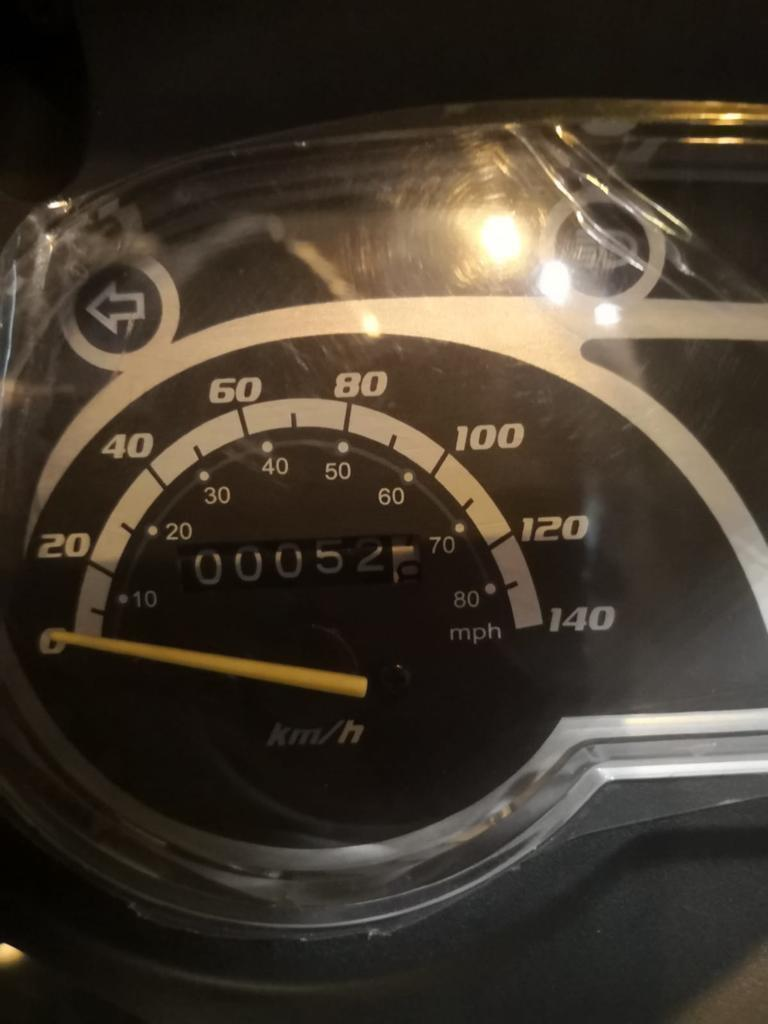0: (193, 547, 223, 585), (233, 544, 263, 582), (273, 542, 303, 579)
2: (354, 536, 384, 573)
5: (314, 537, 343, 575)
8: (395, 558, 423, 593)
odometer: (174, 530, 424, 597)
